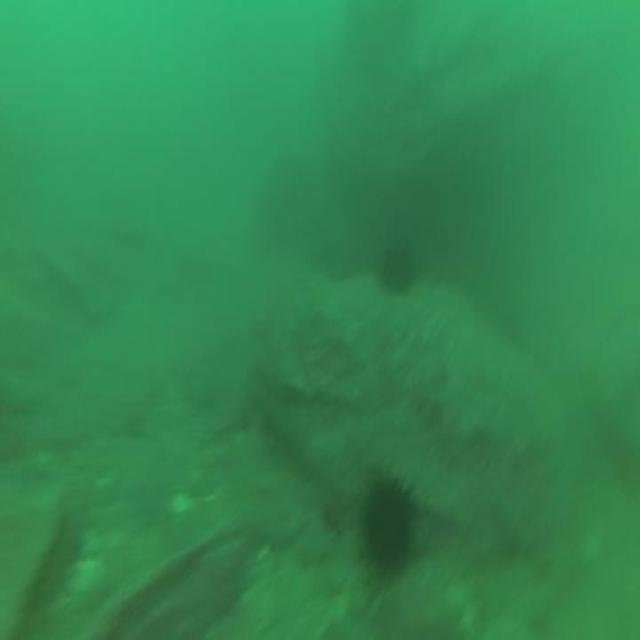echinus: (352, 460, 420, 591), (377, 236, 416, 296)
